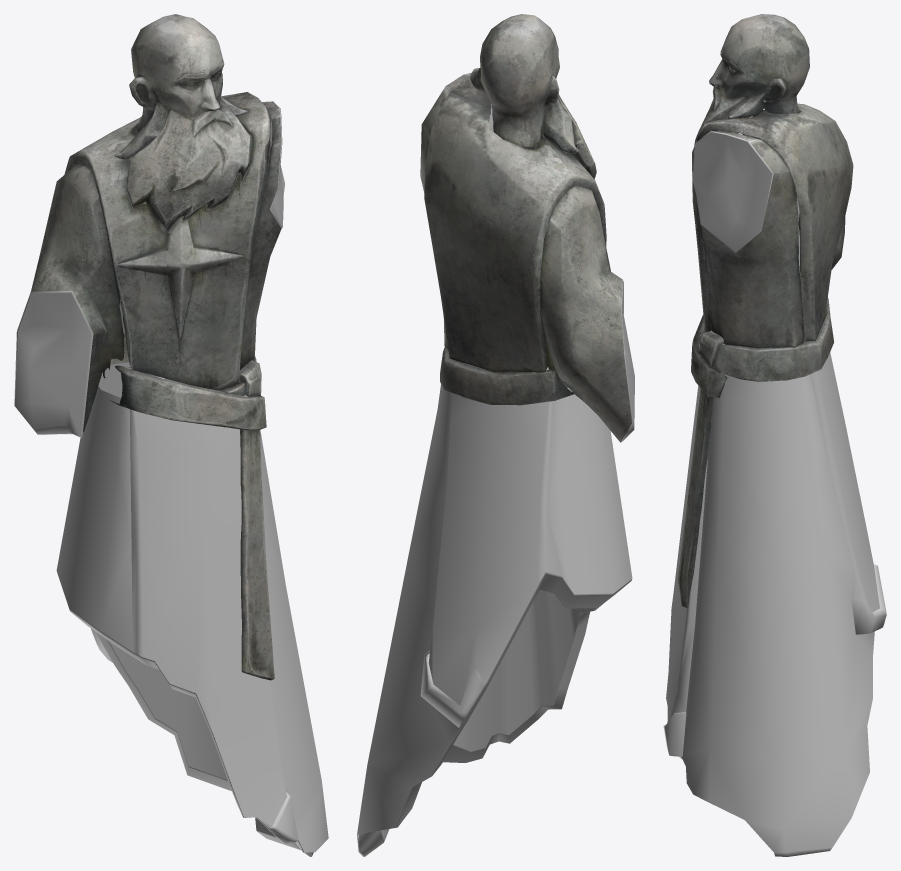
3 renders of one model, left to right at view 1: azimuth 30°, elevation 25°; view 2: azimuth 150°, elevation 25°; view 3: azimuth 270°, elevation 25°, orthographic. The views are drawn at different scales.
Parts seen in each view (by area): view 1: SM_SaradominTemple_Statue_01v7_LOD0; view 2: SM_SaradominTemple_Statue_01v7_LOD0; view 3: SM_SaradominTemple_Statue_01v7_LOD0.
Boxes of the visible parts, <box> form: SM_SaradominTemple_Statue_01v7_LOD0: <box>14,14,328,856</box>; SM_SaradominTemple_Statue_01v7_LOD0: <box>357,14,634,856</box>; SM_SaradominTemple_Statue_01v7_LOD0: <box>663,14,886,856</box>.
Size of the model in its own units: 4.12 by 12.15 by 3.16.
